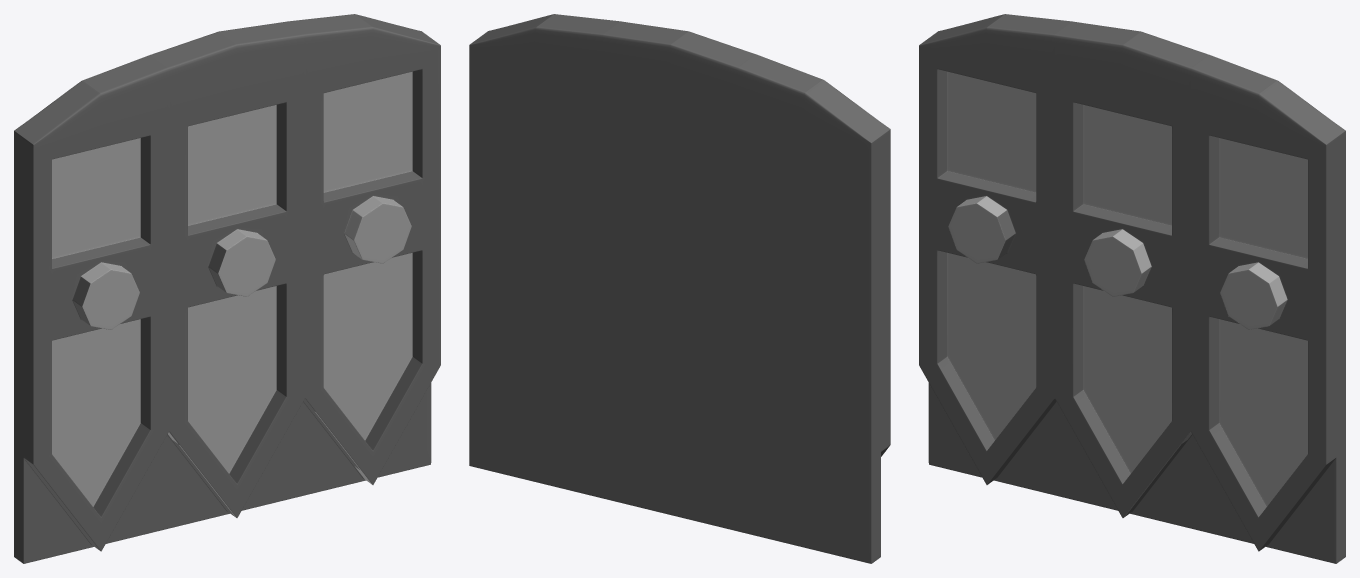
Rendered from battle door.fbx.
3 renders of one model, left to right at view 1: azimuth 30°, elevation 25°; view 2: azimuth 150°, elevation 25°; view 3: azimuth 330°, elevation 25°, orthographic.
Visible parts, largest first — view 1: battle_door:pCube1; view 2: battle_door:pCube1; view 3: battle_door:pCube1.
Boxes of the visible parts, <box> form: battle_door:pCube1: <box>14,14,440,563</box>; battle_door:pCube1: <box>469,14,890,563</box>; battle_door:pCube1: <box>919,14,1345,563</box>.
Bounding box in the file's own units: 12 × 13.4 × 1.5.
1 material, 1 textured.
